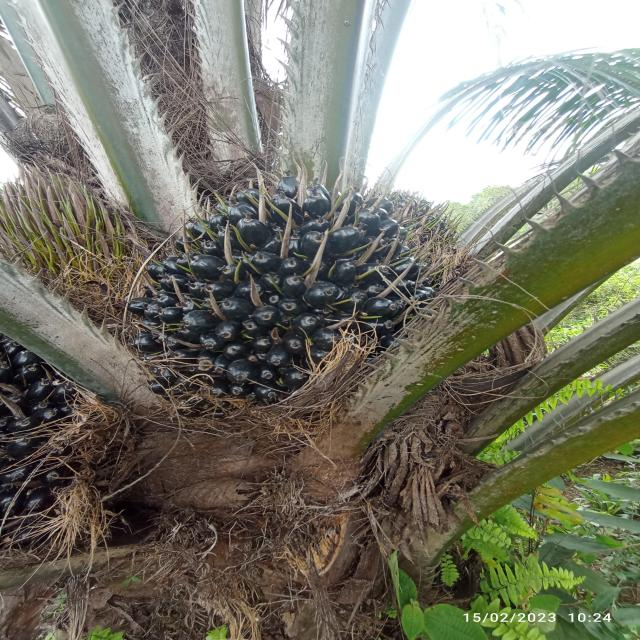fraksi 00: (107, 143, 447, 424)
